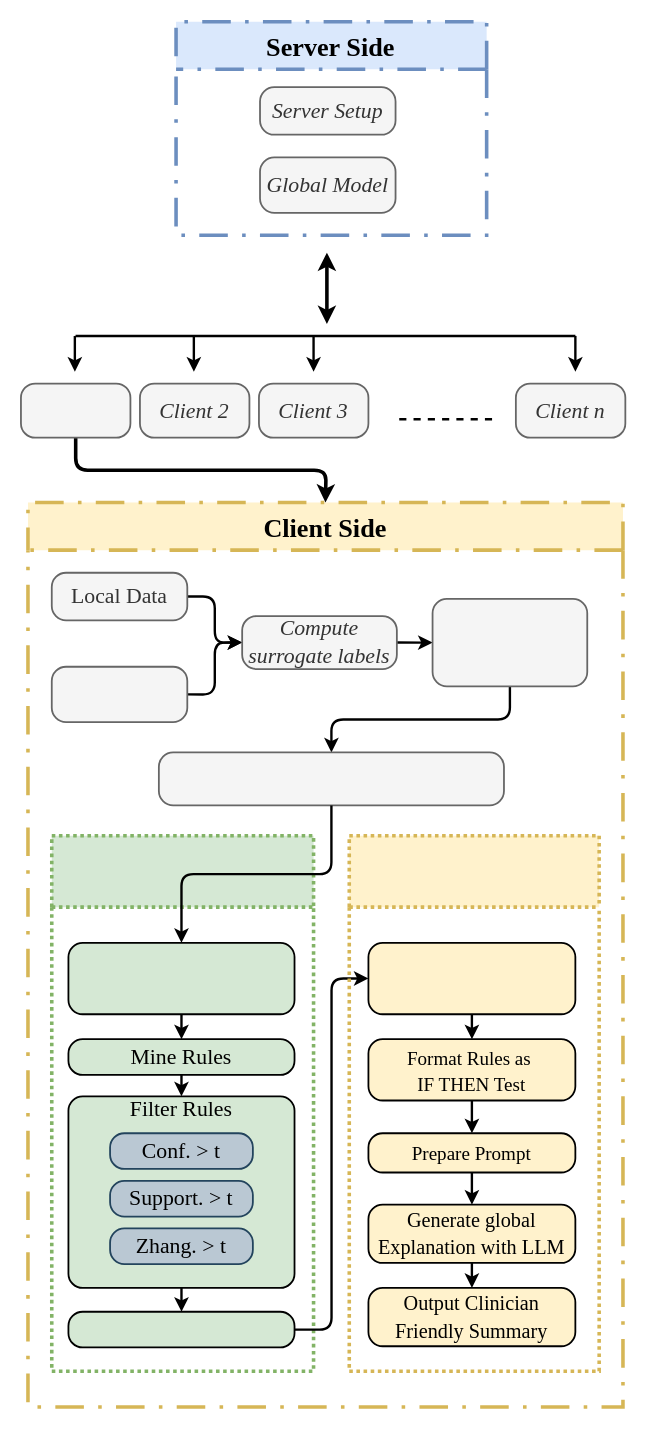
Image size: 647x1430. Some labels were removed from this diagram. Here are the shapes that lost their labels. From the top down, the box of each, then its label:
(20, 382, 131, 438): Client 1
(431, 597, 588, 687): Replace the Label Col. with surrogate
(50, 665, 188, 722): Global Model from Server
(157, 751, 504, 806): Discretise Local Features
(67, 941, 295, 1015): Train Neurosymbolic Autoencoder
(367, 941, 576, 1015): Select Top Rules for each Label
(49, 833, 315, 1372): Neuro-Symbolic Rule Extraction
(347, 833, 600, 1372): Global Explanation Generation
(67, 1310, 295, 1348): Save Filtered Rules
